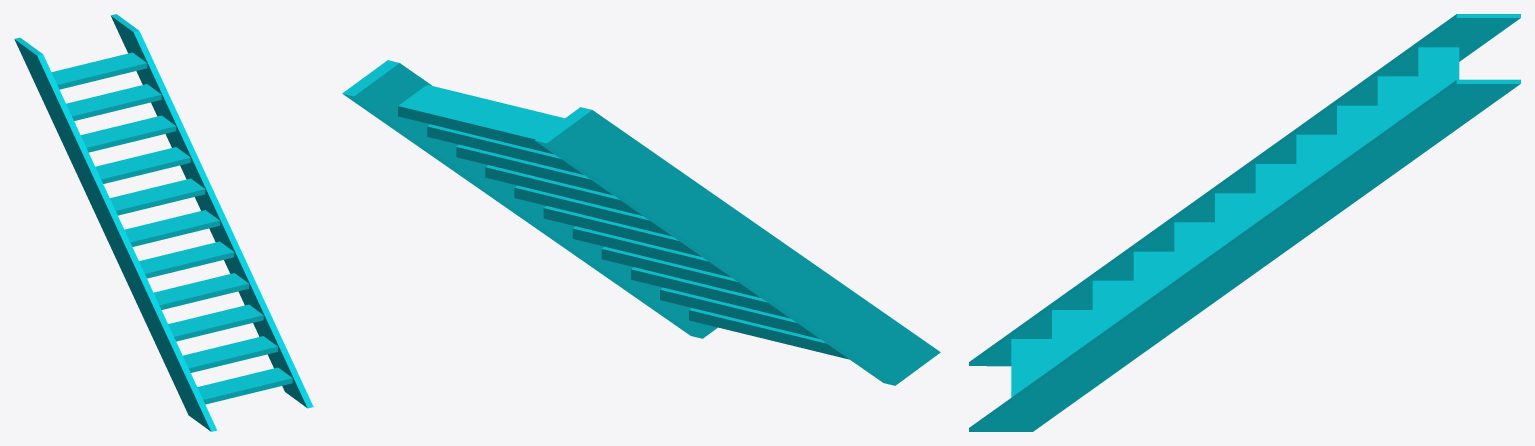
Rendered from Stairs_069.glb.
3 views of the same model, side by side, from view 1: azimuth 30°, elevation 25°; view 2: azimuth 150°, elevation 25°; view 3: azimuth 270°, elevation 25° (orthographic). The views are drawn at different scales.
Parts seen in each view (by area): view 1: Stairs_069; view 2: Stairs_069; view 3: Stairs_069.
Part boxes in pixels (x1,y1,x2,y2): Stairs_069: [14, 14, 313, 431]; Stairs_069: [342, 60, 940, 385]; Stairs_069: [969, 14, 1520, 431].
Size of the model in its own units: 1.72 by 4 by 5.74.
Materials: 1 (1 with a texture image).
